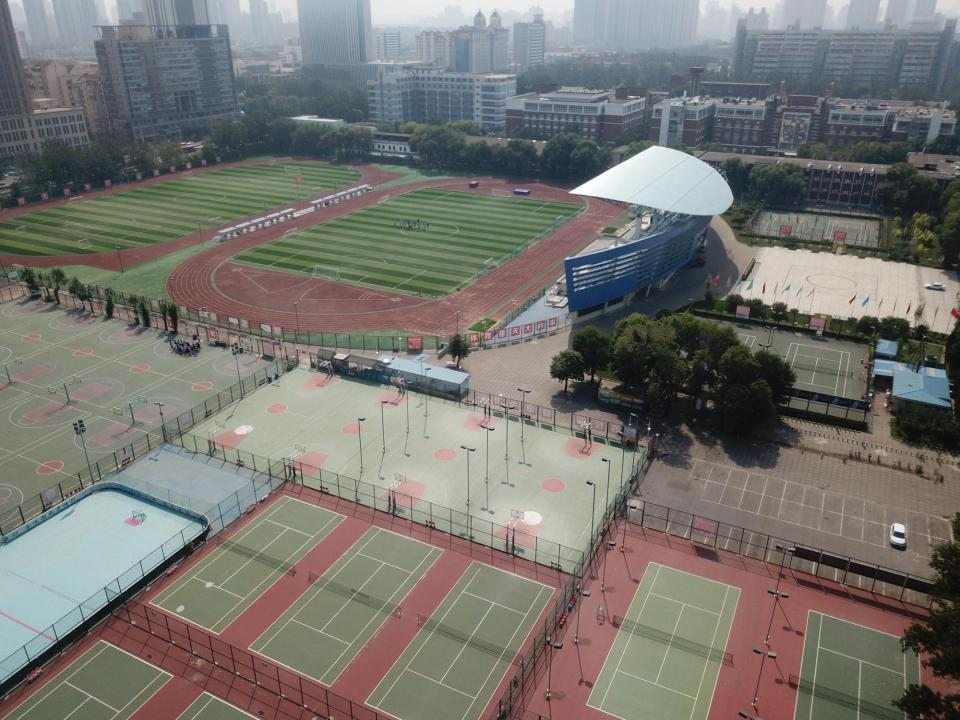car: (890, 522, 908, 548), (924, 282, 947, 292)
